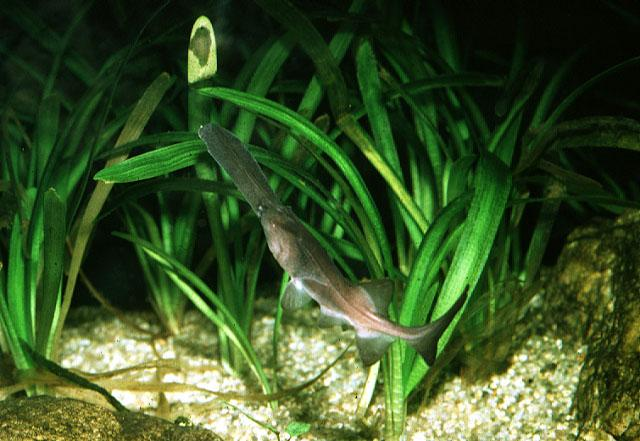Sirip Anal: (348, 324, 398, 382)
Sirip Dada: (272, 272, 316, 320)
Sirip Ekor: (409, 279, 479, 380)
Sirip Perut: (319, 307, 351, 348)
Sirip Punggung: (351, 270, 401, 330)
